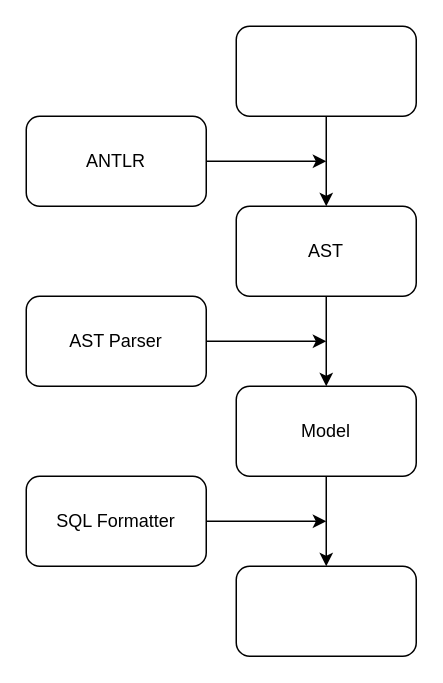
Some shapes in this 443 by 683 pixel diagram are drawn without their labels. The shapes that lost their labels are listed below. From the top down, each one's box as (x1, y1, x2, y2) in pixels, then its label:
(235, 25, 416, 116): User input
(235, 565, 416, 656): SQL
